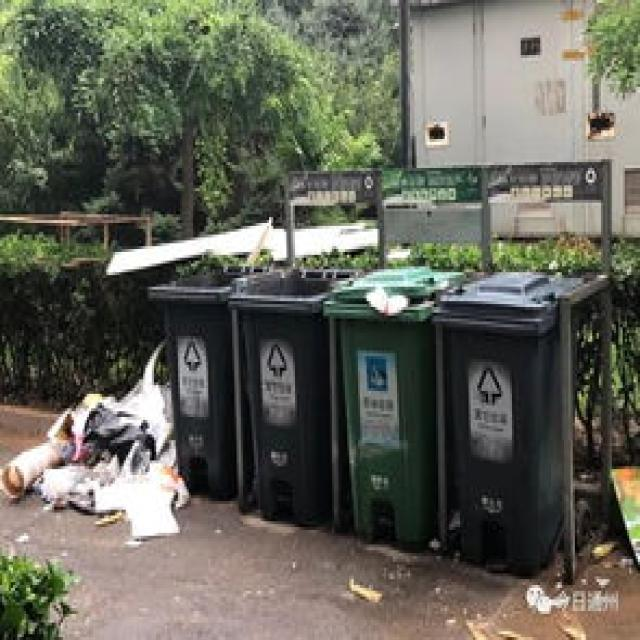garbage: (0, 339, 184, 536)
garbage_bin: (430, 266, 586, 574), (226, 264, 358, 524), (148, 264, 250, 495)
overflow: (319, 264, 462, 544)
